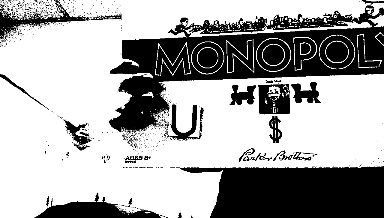U: (169, 103, 200, 137)
